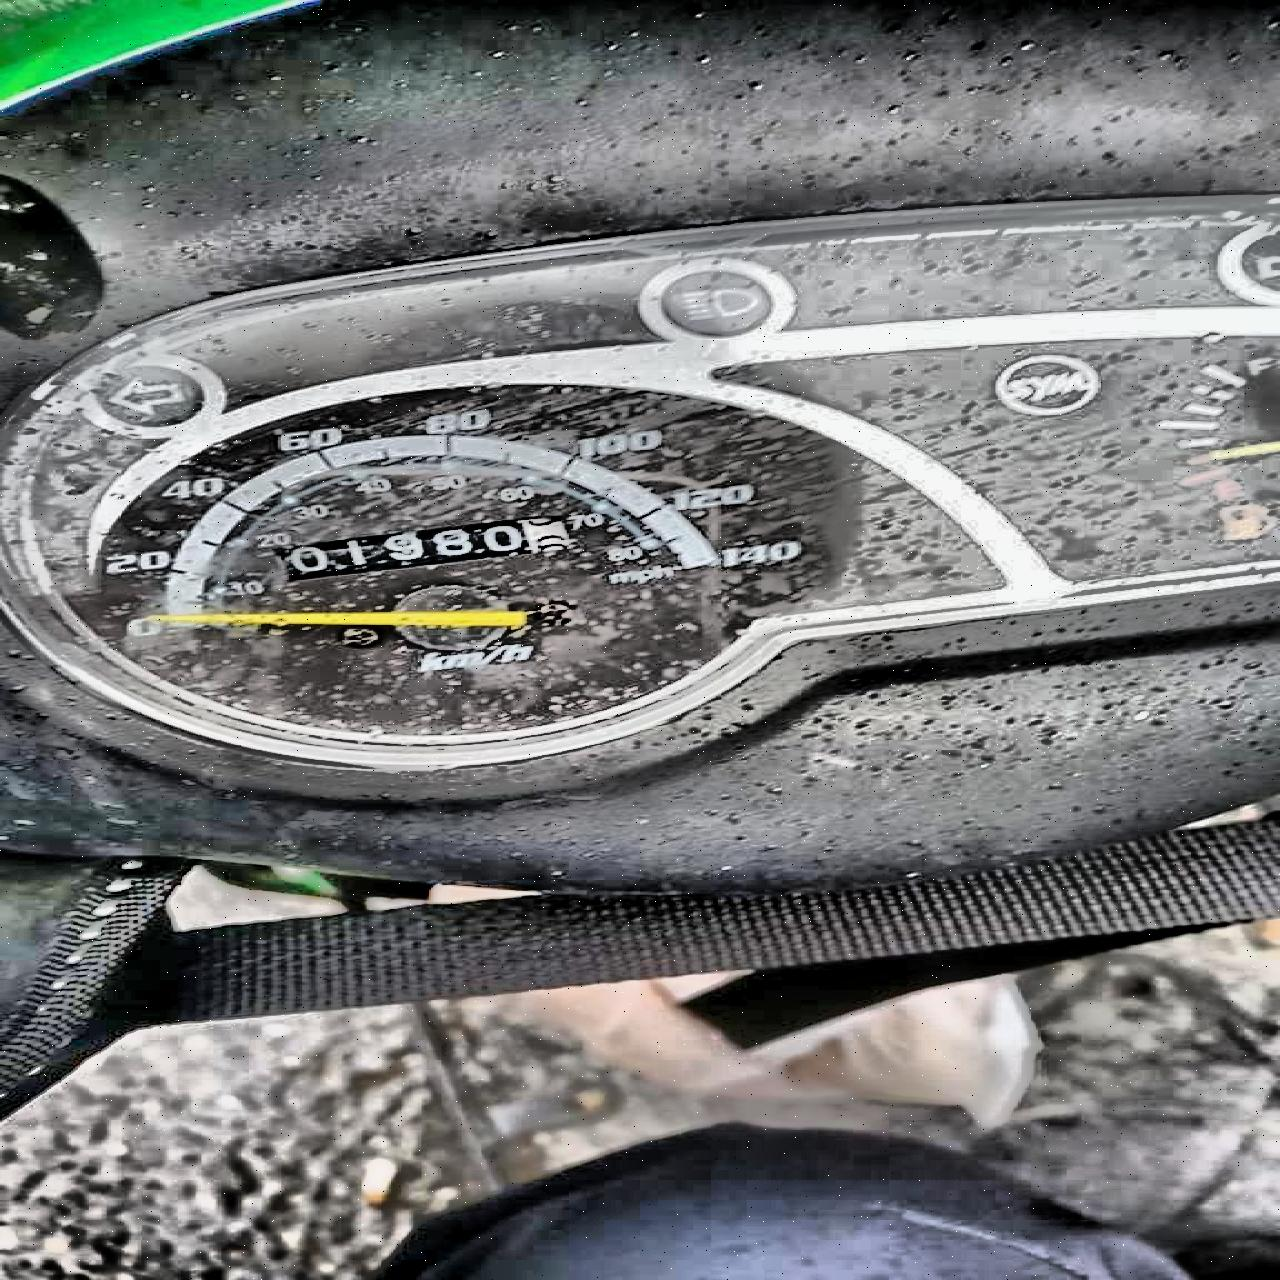0: (290, 544, 329, 574), (482, 523, 522, 553), (273, 530, 288, 545)
1: (340, 536, 372, 573)
6: (536, 531, 568, 560)
7: (567, 512, 583, 527)
8: (429, 525, 474, 557)
9: (377, 531, 424, 561)
odometer: (273, 513, 585, 579)
